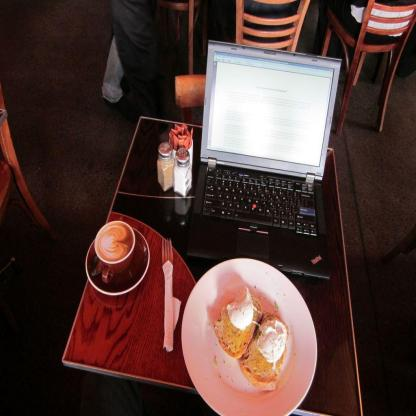board: (185, 37, 346, 274), (156, 142, 173, 193), (174, 149, 190, 198)
